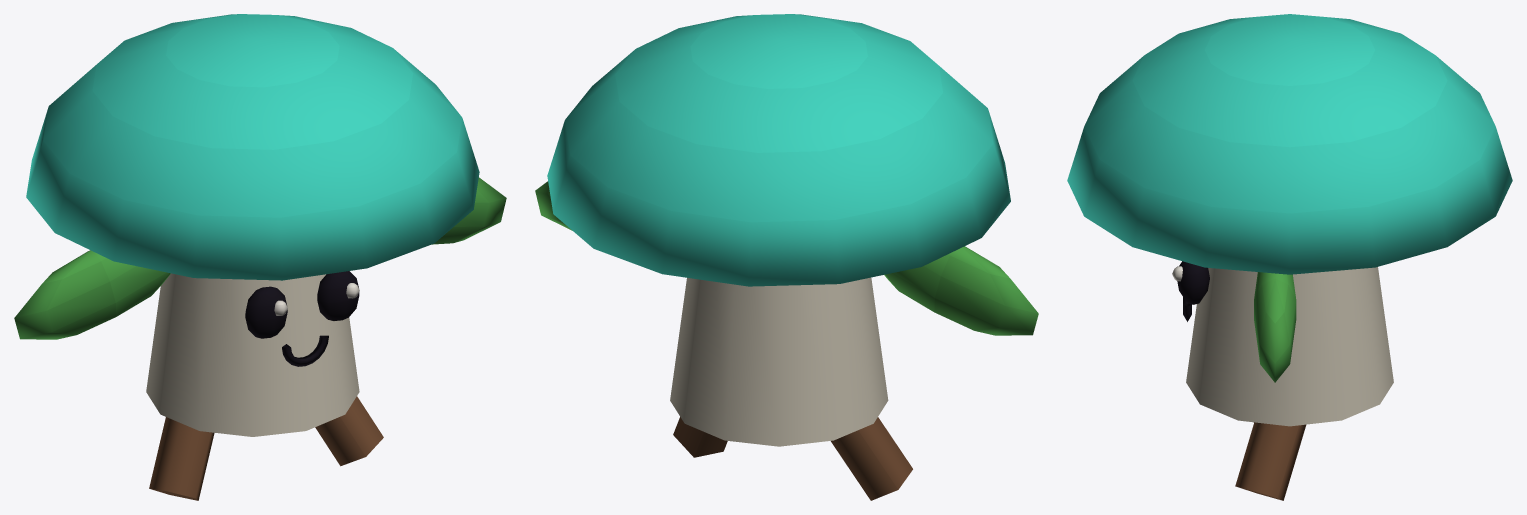
File: monster_spore_cap.glb
3 renders of one model, left to right at view 1: azimuth 30°, elevation 25°; view 2: azimuth 150°, elevation 25°; view 3: azimuth 270°, elevation 25°, orthographic. The views are drawn at different scales.
Visible parts, largest first — view 1: body_t0_palette, arml_t0_palette, legl_t0_palette, legr_t0_palette, armr_t0_palette; view 2: body_t0_palette, arml_t0_palette, legl_t0_palette, legr_t0_palette, armr_t0_palette; view 3: body_t0_palette, armr_t0_palette, legr_t0_palette.
Part boxes in pixels (bbox=[...]): body_t0_palette: bbox=[26, 14, 479, 436]; arml_t0_palette: bbox=[14, 250, 170, 339]; legl_t0_palette: bbox=[149, 417, 214, 500]; legr_t0_palette: bbox=[315, 396, 383, 466]; armr_t0_palette: bbox=[432, 177, 506, 244]; body_t0_palette: bbox=[547, 14, 1010, 446]; arml_t0_palette: bbox=[884, 246, 1038, 335]; legl_t0_palette: bbox=[831, 417, 912, 500]; legr_t0_palette: bbox=[673, 417, 727, 457]; armr_t0_palette: bbox=[535, 181, 572, 230]; body_t0_palette: bbox=[1067, 14, 1512, 426]; armr_t0_palette: bbox=[1254, 272, 1296, 382]; legr_t0_palette: bbox=[1235, 422, 1306, 500].
Size of the model in its own units: 0.373 by 0.3125 by 0.3.
